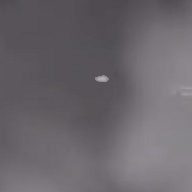Target: (95, 75, 109, 82)
